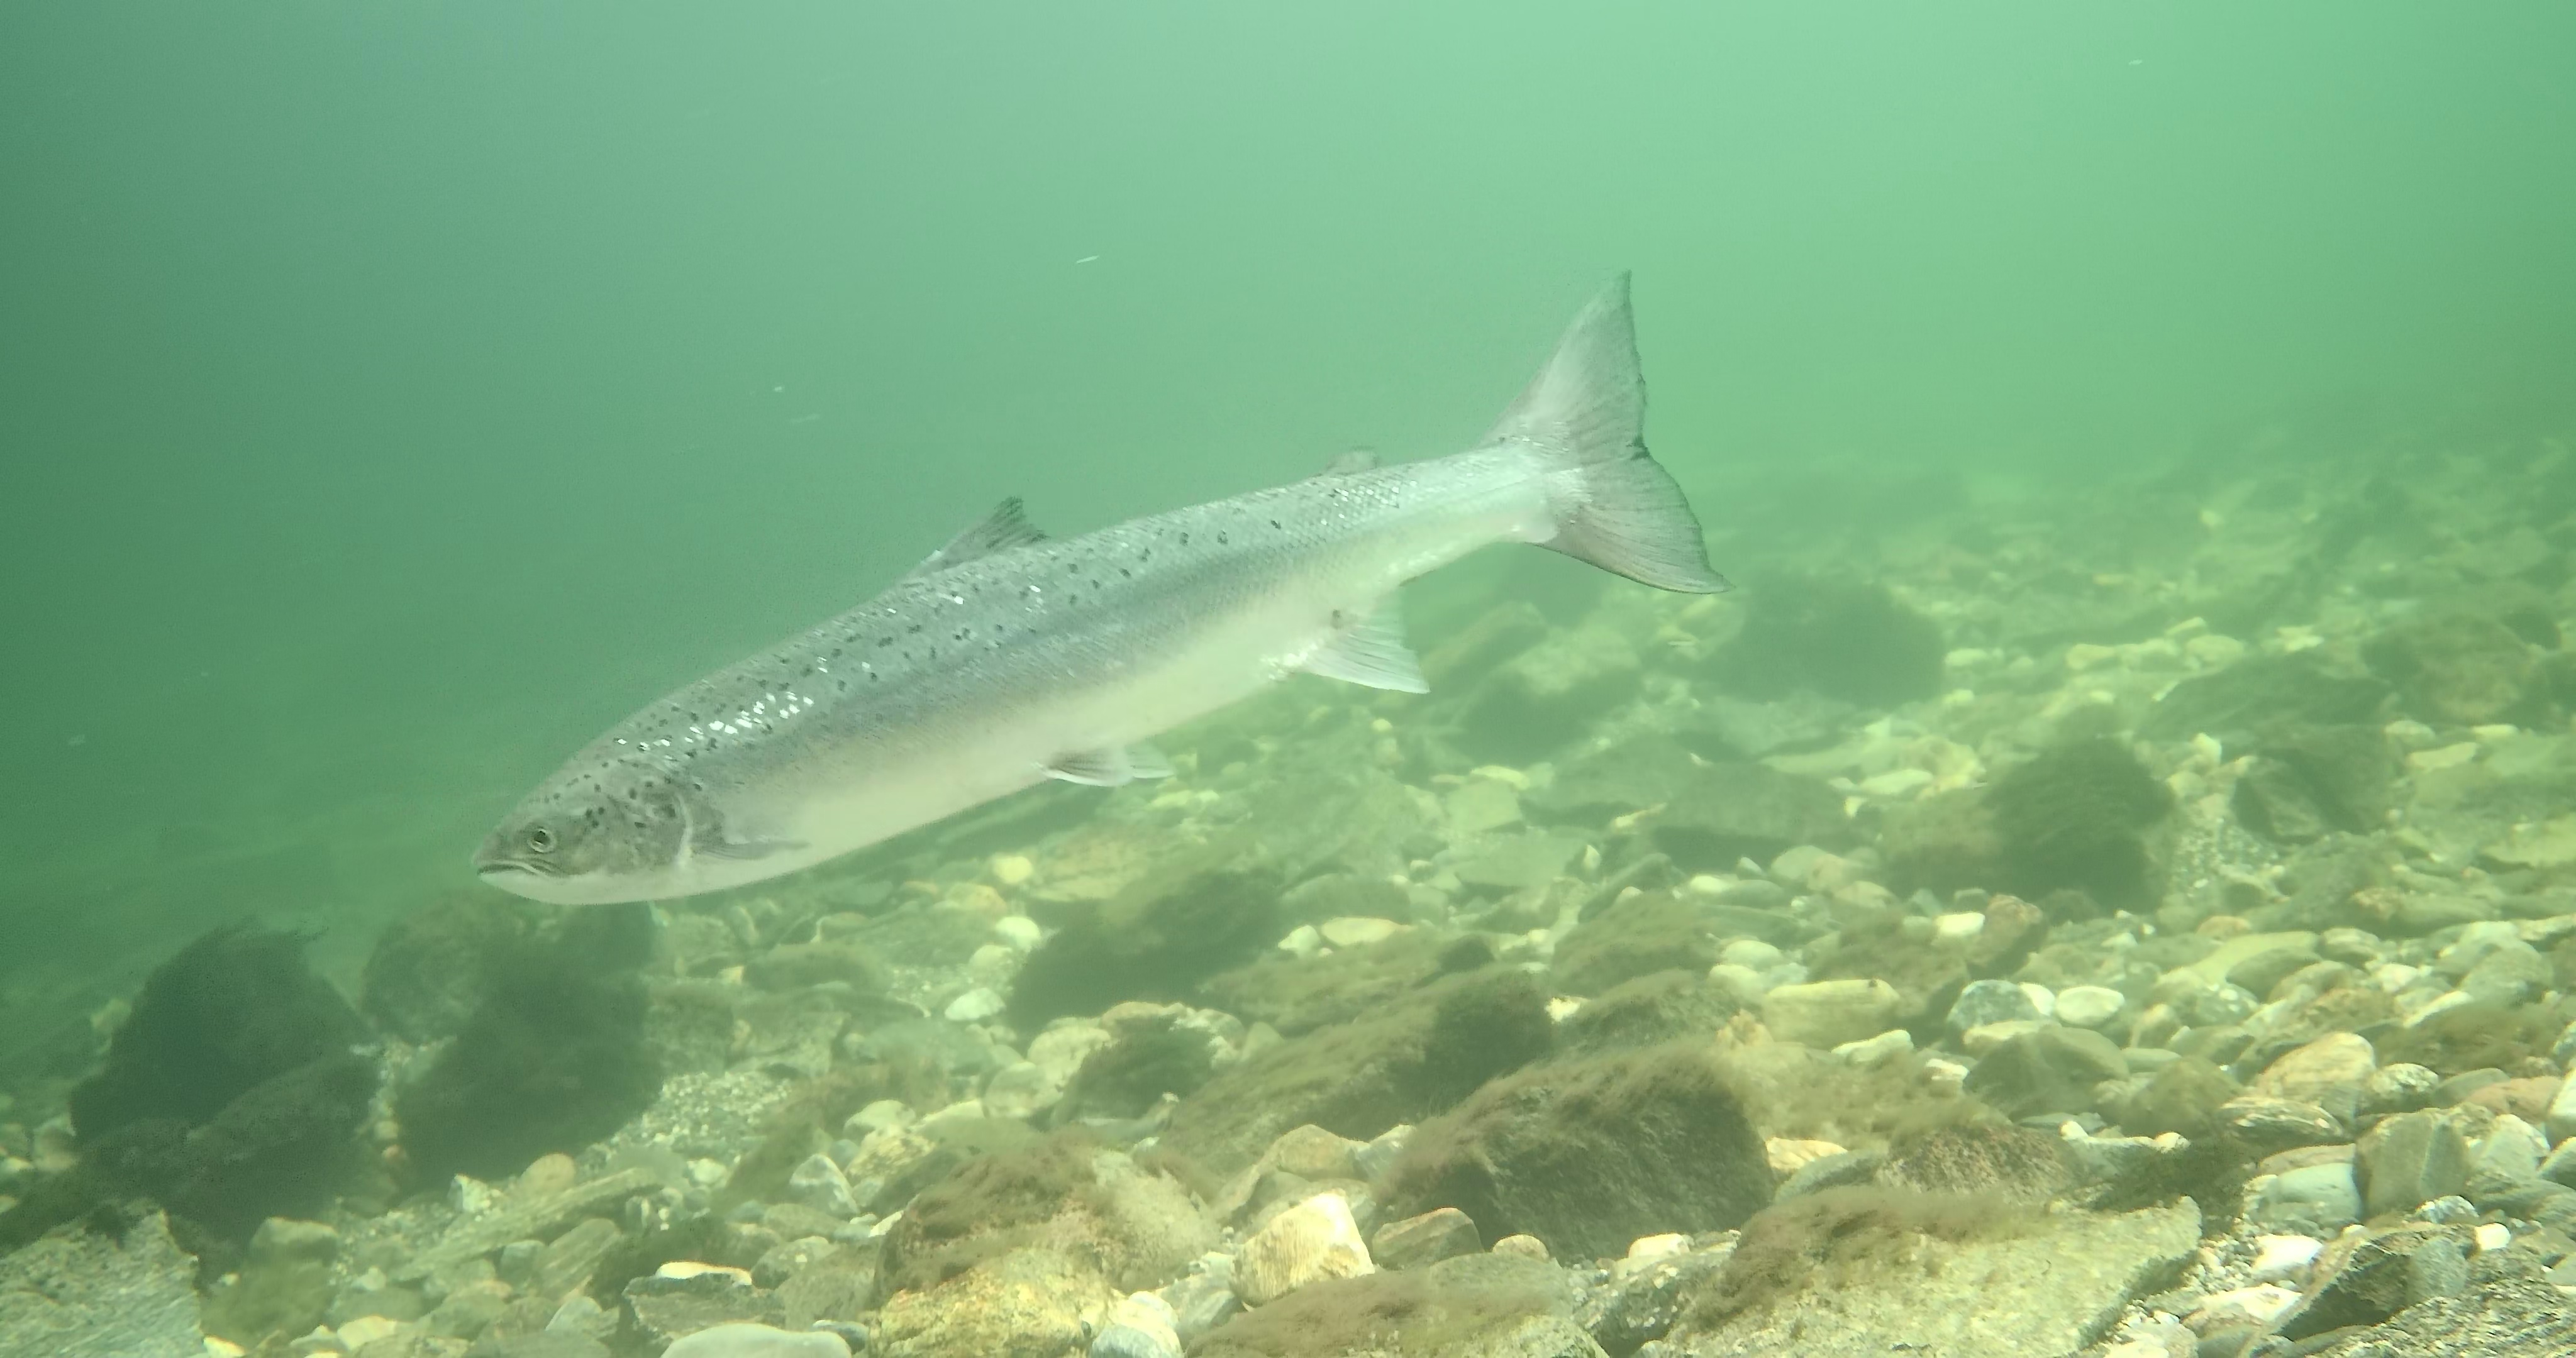salmon: (455, 261, 1729, 910)
